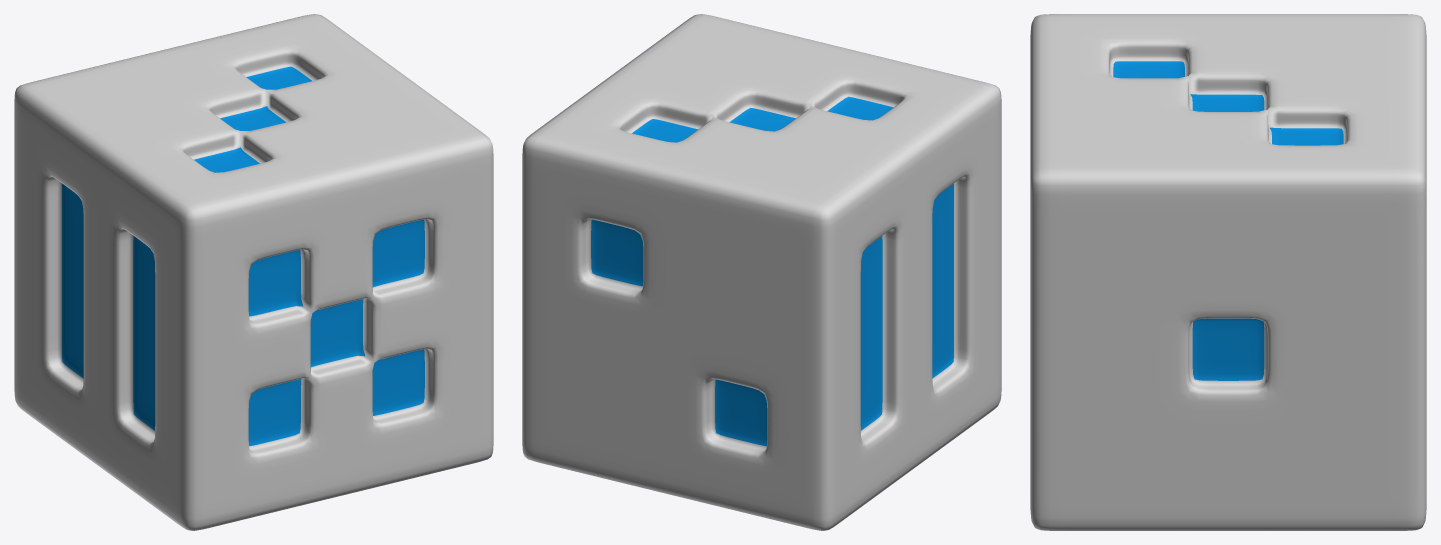
Rendered from Dice.fbx.
The picture shows the model from 3 angles, left to right: view 1: azimuth 30°, elevation 25°; view 2: azimuth 150°, elevation 25°; view 3: azimuth 270°, elevation 25°; orthographic projection. The views are drawn at different scales.
Parts seen in each view (by area): view 1: Cube; view 2: Cube; view 3: Cube.
Part boxes in pixels (x1,y1,x2,y2): Cube: (14, 14, 493, 530); Cube: (522, 14, 1001, 530); Cube: (1030, 14, 1426, 530).
Bounding box in the file's own units: 200 × 200 × 200.
